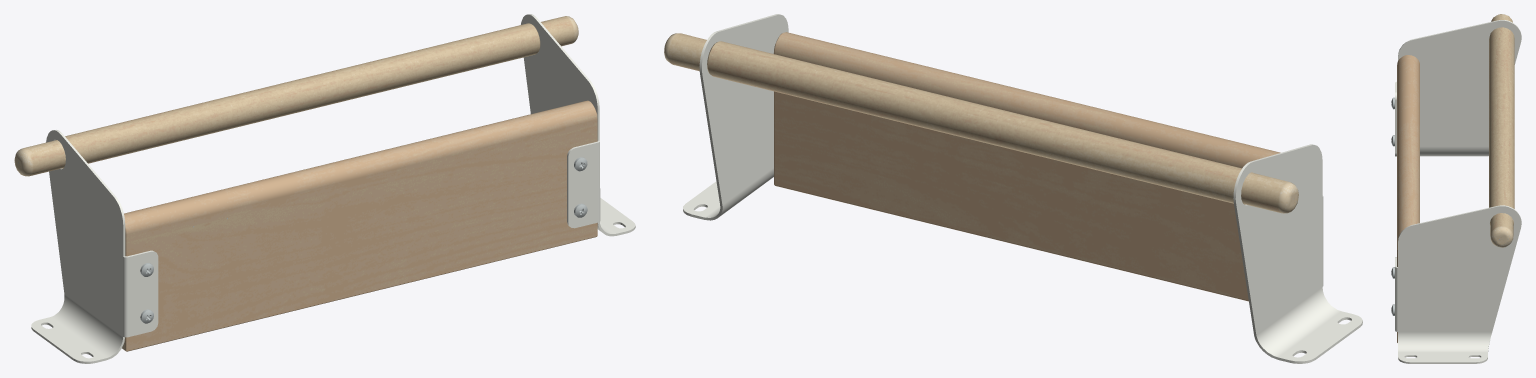
The model's file is nereby_poka_scienna_90465924.glb.
The picture shows the model from 3 angles, left to right: view 1: azimuth 30°, elevation 25°; view 2: azimuth 150°, elevation 25°; view 3: azimuth 270°, elevation 25°; orthographic projection. The views are drawn at different scales.
Parts seen in each view (by area): view 1: nereby_poka_scienna_90465924; view 2: nereby_poka_scienna_90465924; view 3: nereby_poka_scienna_90465924.
Boxes of the visible parts, x1,y1,x2,y2 form: nereby_poka_scienna_90465924: (14,14,635,363); nereby_poka_scienna_90465924: (664,14,1362,363); nereby_poka_scienna_90465924: (1391,14,1521,363).
Size of the model in its own units: 0.403 by 0.1215 by 0.1014.
1 material, 1 textured.
